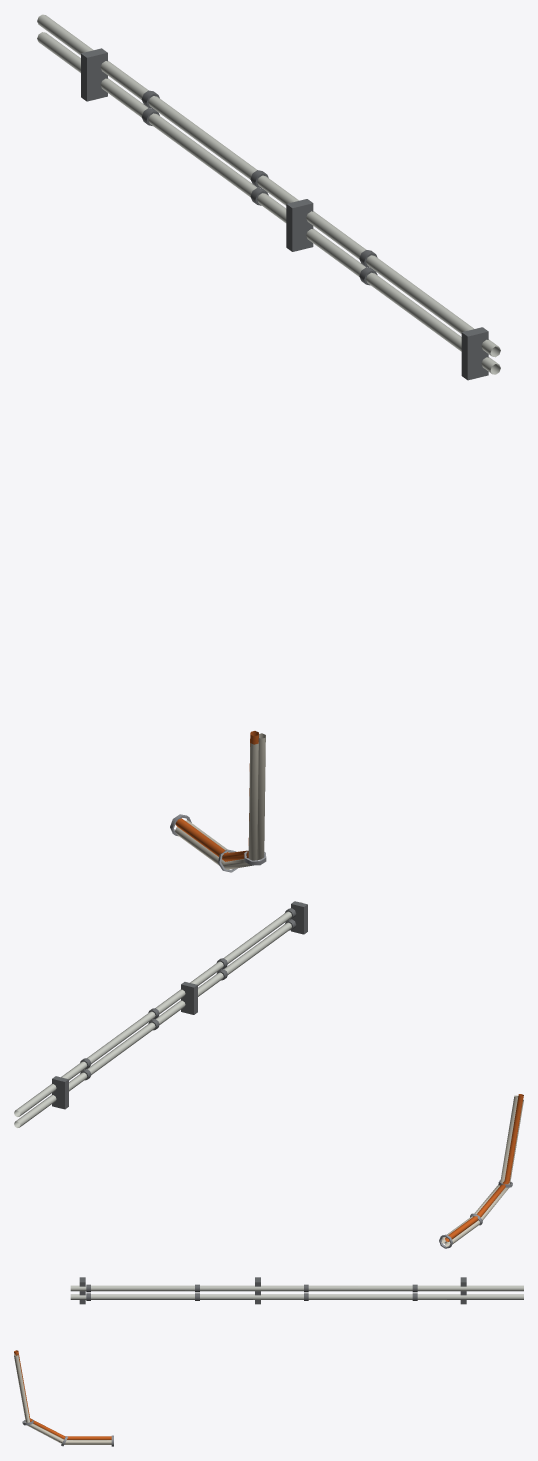
The model's file is p20_pipes.obj.
The picture shows the model from 3 angles, top to bottom: view 1: azimuth 30°, elevation 25°; view 2: azimuth 150°, elevation 25°; view 3: azimuth 270°, elevation 25°; orthographic projection. The views are drawn at different scales.
Visible parts, largest first — view 1: p20_pipes; view 2: p20_pipes; view 3: p20_pipes.
Part boxes in pixels (x1,y1,x2,y2): p20_pipes: (37,14,500,872); p20_pipes: (14,901,523,1248); p20_pipes: (14,1277,523,1446).
Bounding box in the file's own units: 1.46 × 2.11 × 4.22.
